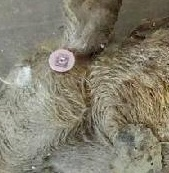text: (43, 40, 80, 78)
